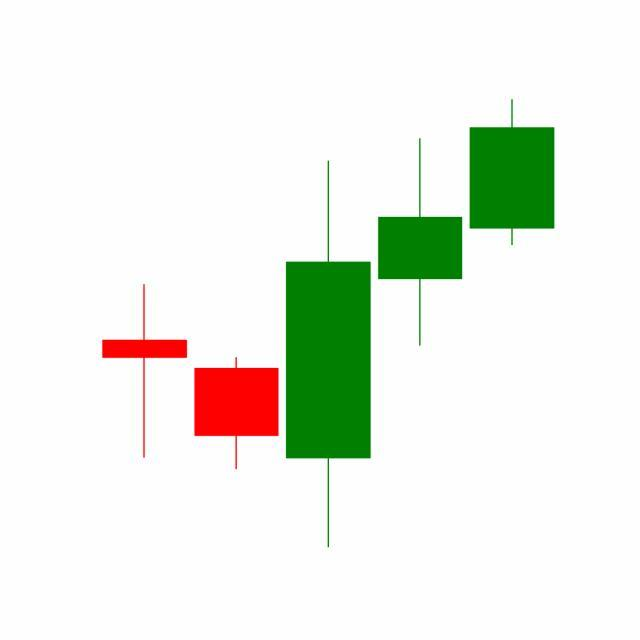Three Outside Up-Down: (190, 134, 467, 549)
